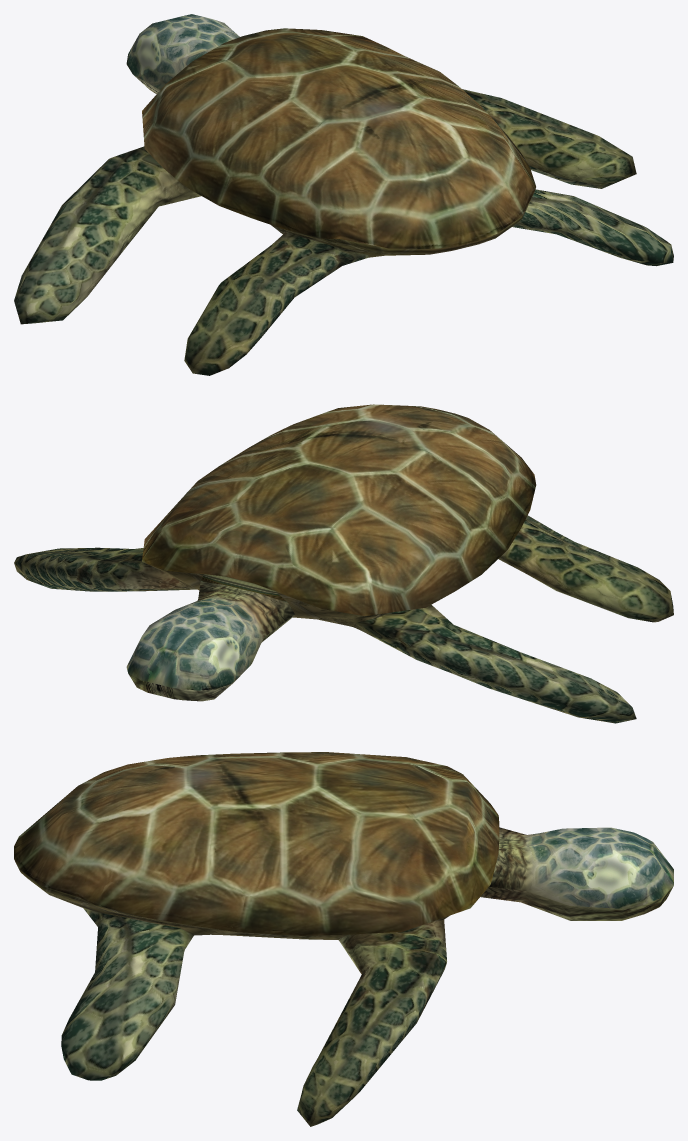
Rendered from Turtle.fbx.
The picture shows the model from 3 angles, top to bottom: view 1: azimuth 30°, elevation 25°; view 2: azimuth 150°, elevation 25°; view 3: azimuth 270°, elevation 25°; orthographic projection. The views are drawn at different scales.
Parts seen in each view (by area): view 1: Cube; view 2: Cube; view 3: Cube.
Boxes of the visible parts, x1,y1,x2,y2 form: Cube: (14, 14, 673, 375); Cube: (14, 404, 673, 723); Cube: (14, 752, 673, 1126).
Bounding box in the file's own units: 513 × 449 × 148.
